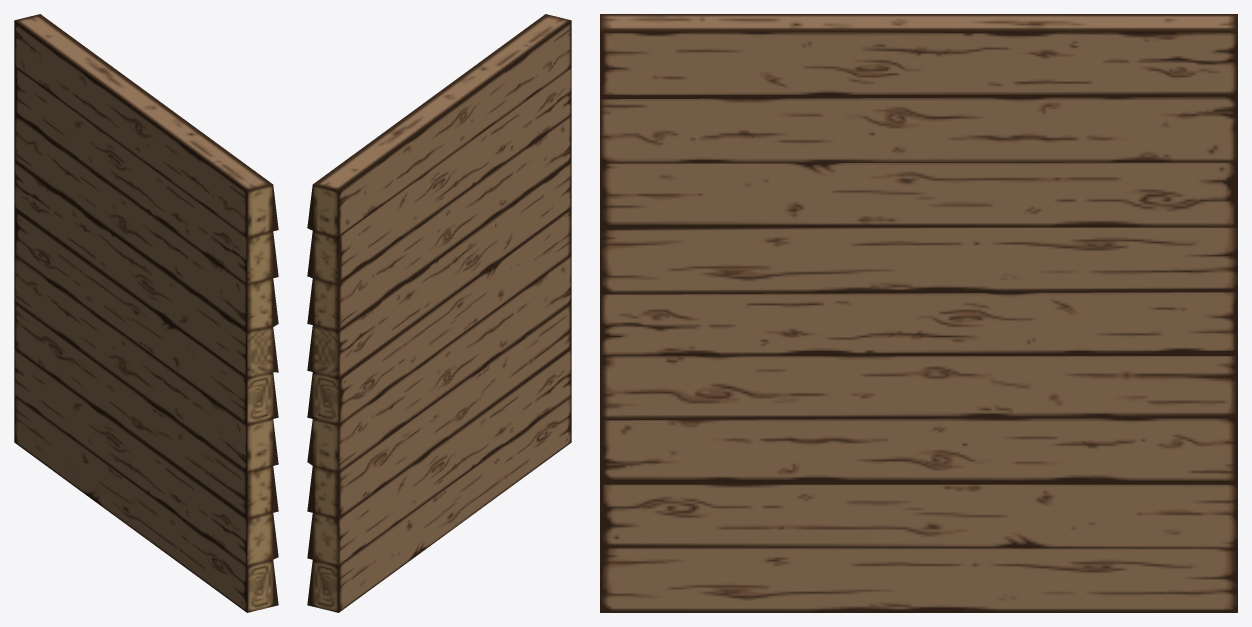
File: sciana test 2.fbx
The picture shows the model from 3 angles, left to right: view 1: azimuth 30°, elevation 25°; view 2: azimuth 150°, elevation 25°; view 3: azimuth 270°, elevation 25°; orthographic projection. The views are drawn at different scales.
Parts seen in each view (by area): view 1: ŚcianaDechySaloon1; view 2: ŚcianaDechySaloon1; view 3: ŚcianaDechySaloon1.
Boxes of the visible parts, x1=… form: ŚcianaDechySaloon1: x1=14, y1=14, x2=278, y2=612; ŚcianaDechySaloon1: x1=307, y1=14, x2=571, y2=612; ŚcianaDechySaloon1: x1=600, y1=14, x2=1237, y2=612.
Bounding box in the file's own units: 23.41 × 300 × 300.
Materials: 1 (1 with a texture image).
